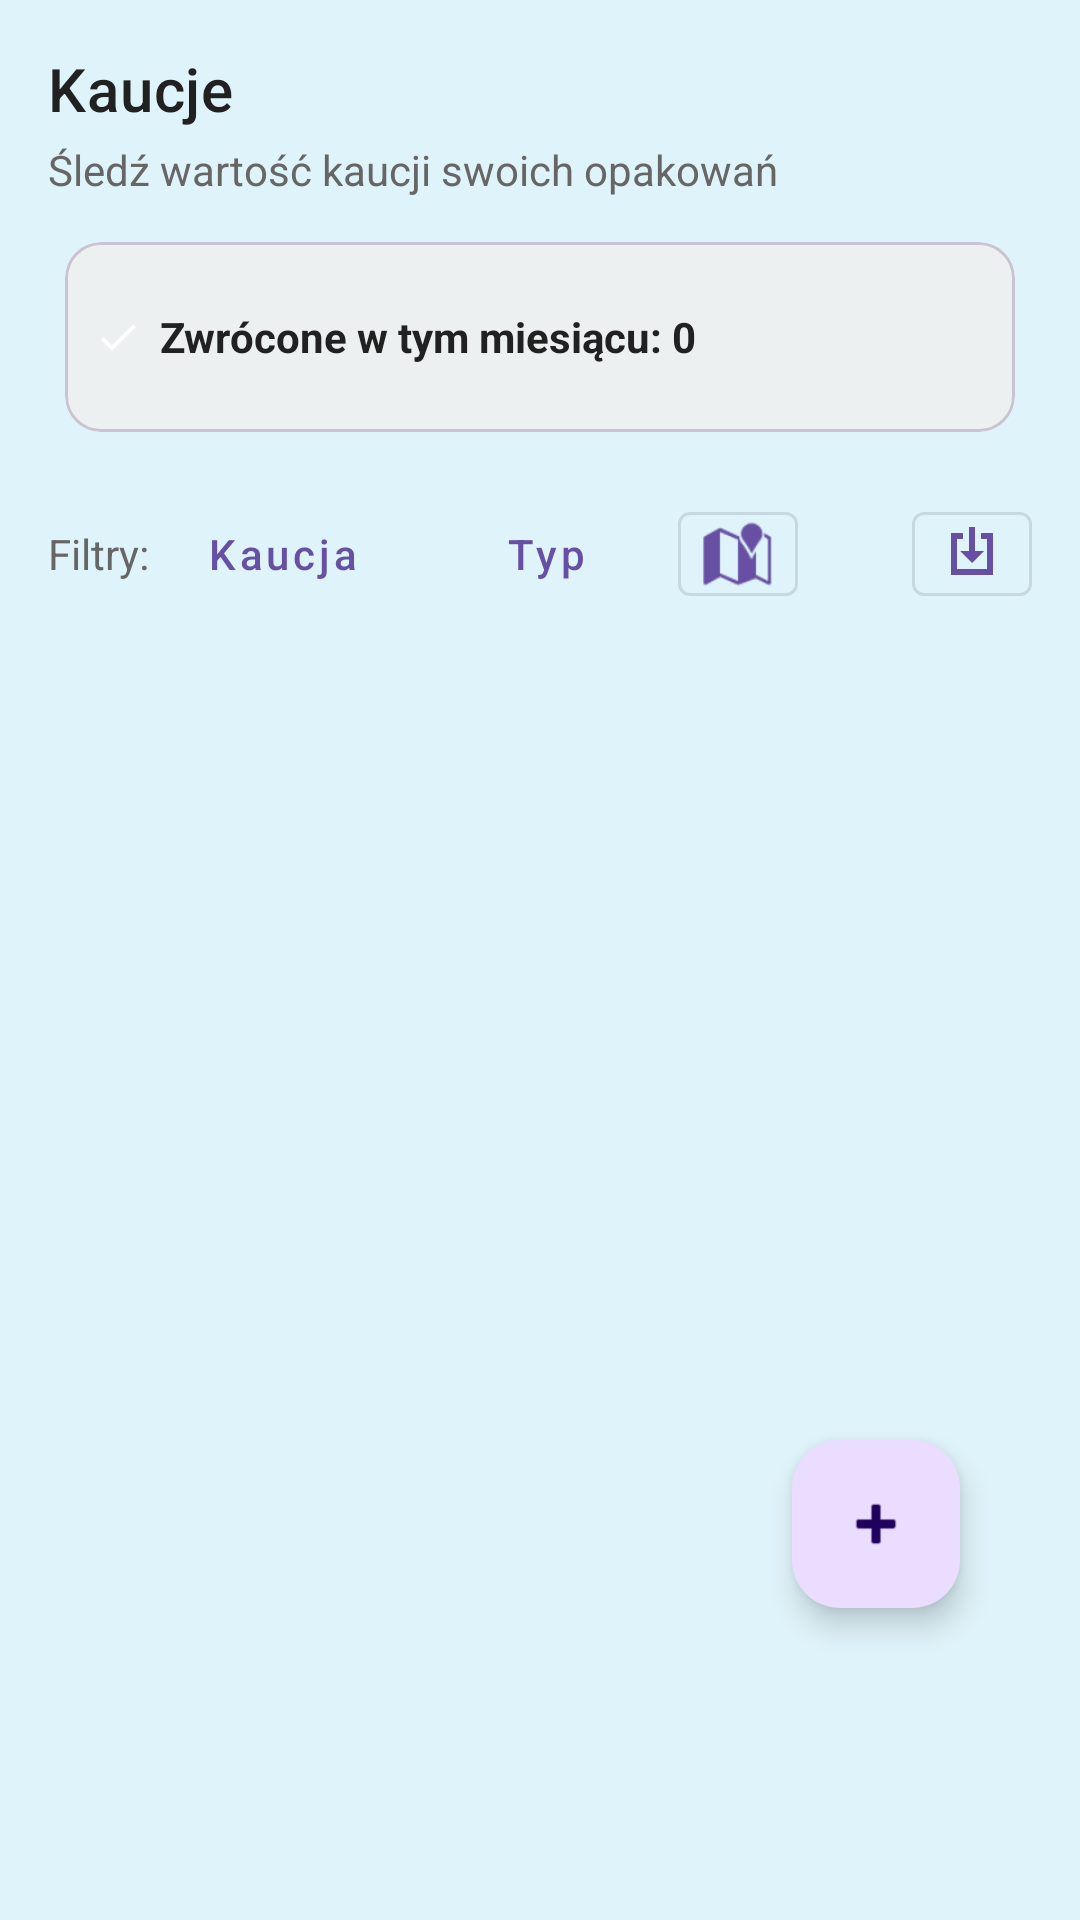

Icons on this 1080×1920 Android screen, each with its box as [x1=x1, y1=y1, x2=x2, y2=y2]:
Dodaj opakowanie: [x1=792, y1=1440, x2=960, y2=1608]
